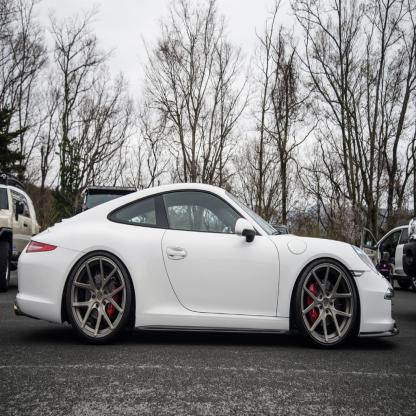Car: (14, 184, 399, 346), (0, 171, 40, 292), (362, 226, 416, 292), (76, 185, 147, 223), (403, 217, 416, 277), (271, 223, 288, 234)
